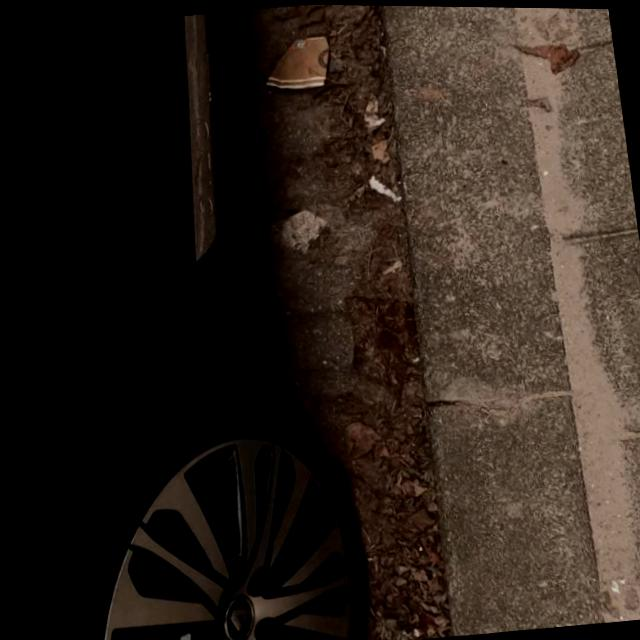Cup: (258, 33, 334, 92)
Paper: (274, 206, 330, 256), (364, 170, 402, 204), (357, 89, 386, 127)
